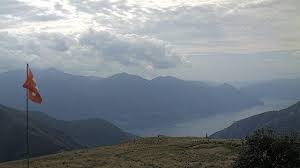Flag: (20, 66, 44, 105)
